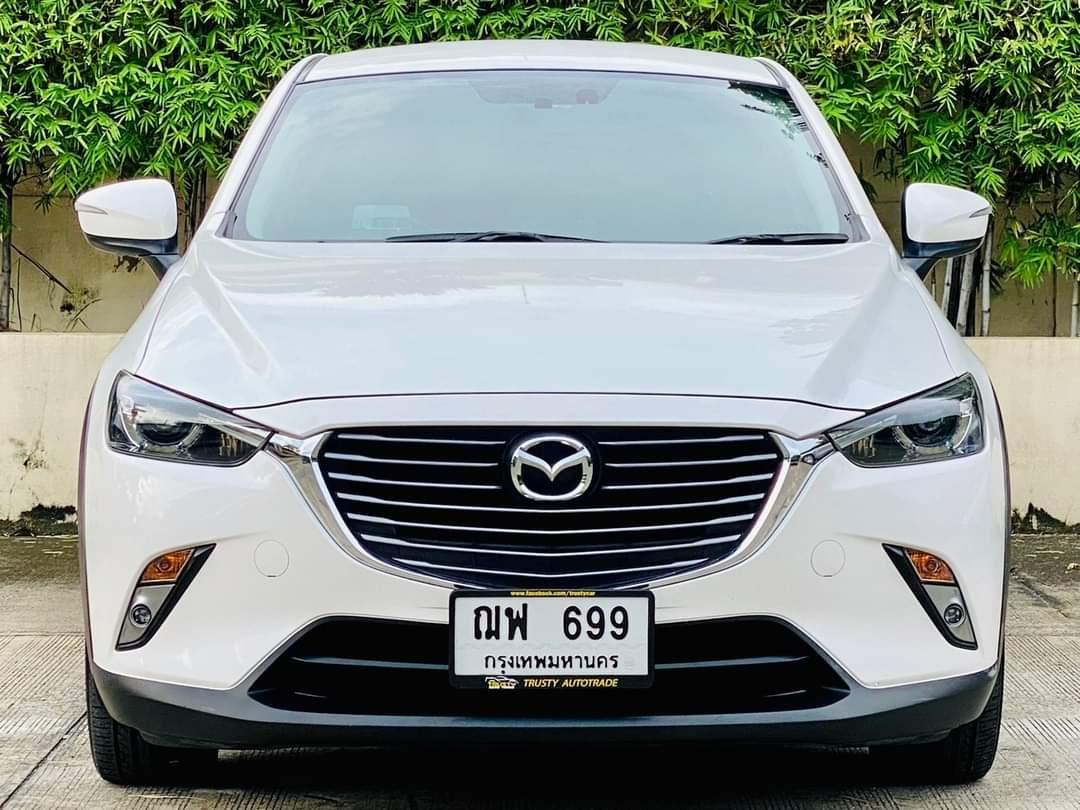license-plate: (446, 583, 657, 694)
